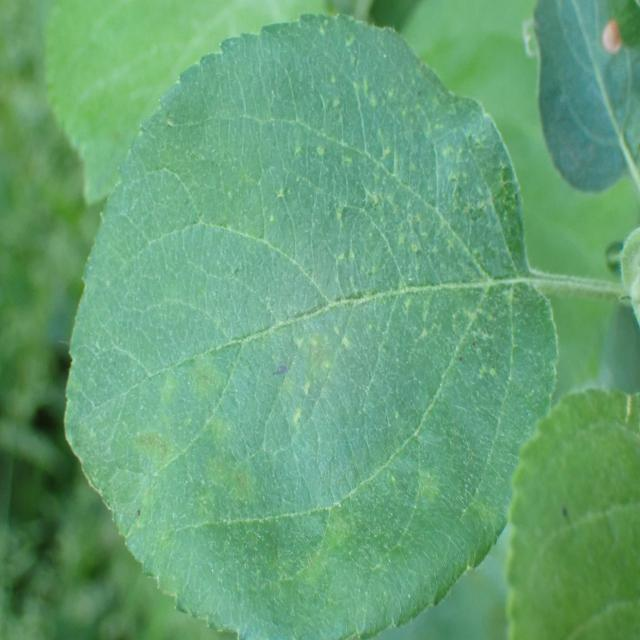scab: (83, 117, 495, 632)
